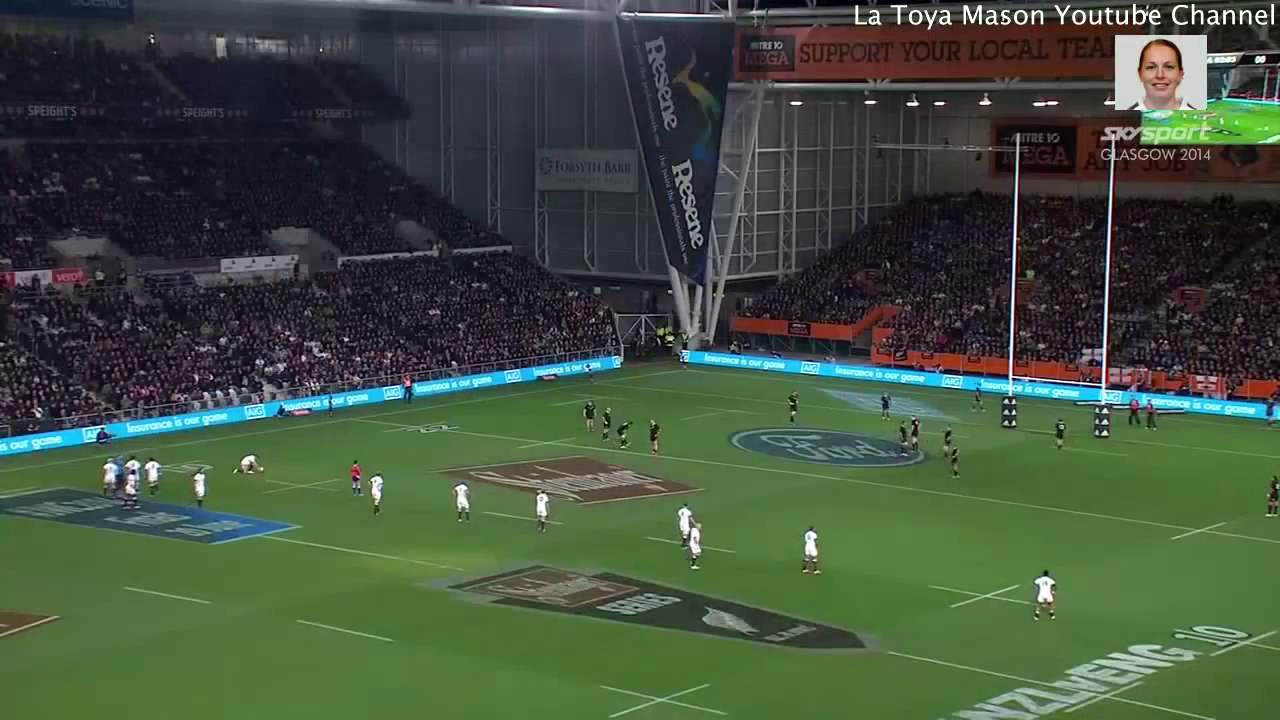10_metre: (588, 675, 737, 720), (922, 573, 1048, 618), (253, 465, 352, 503)
ball: (257, 463, 266, 473)
player: (1026, 561, 1064, 632), (361, 463, 392, 527), (679, 518, 711, 576), (446, 475, 477, 530), (795, 522, 826, 576), (225, 445, 268, 482), (528, 483, 557, 537), (187, 460, 213, 520), (119, 463, 146, 517), (137, 453, 166, 503), (1257, 467, 1280, 526), (672, 498, 698, 550), (97, 453, 120, 506), (932, 417, 958, 463), (1047, 414, 1073, 458), (965, 376, 990, 419), (944, 443, 968, 487), (122, 451, 143, 499), (644, 413, 665, 461), (904, 411, 925, 459), (344, 453, 364, 502), (891, 418, 914, 460), (109, 450, 127, 502), (782, 386, 804, 428), (594, 403, 617, 443), (580, 396, 601, 435), (613, 412, 634, 451), (877, 389, 895, 427)
post: (999, 123, 1126, 444)
